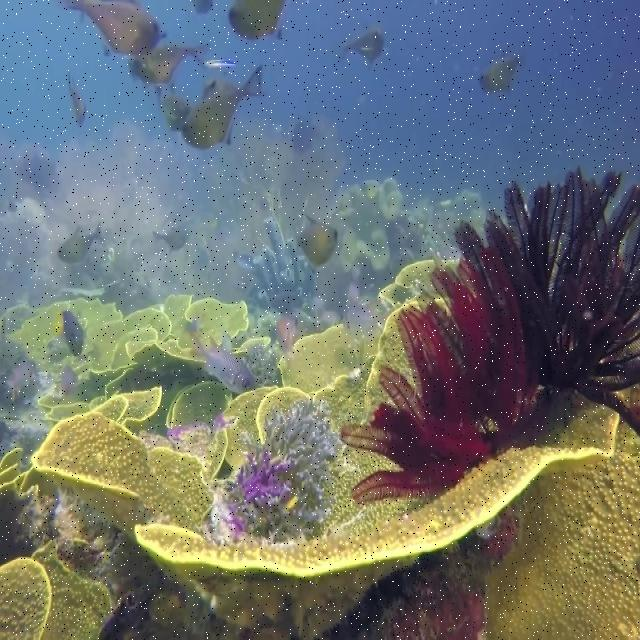aquatic plants: (341, 171, 639, 502)
fish: (182, 64, 267, 149), (66, 1, 171, 58), (184, 322, 258, 394), (128, 43, 210, 104), (295, 210, 337, 270), (229, 1, 288, 40), (480, 44, 522, 95), (58, 223, 104, 266), (342, 30, 385, 69), (54, 307, 85, 358), (67, 69, 87, 127), (153, 225, 190, 252)
reefs: (0, 258, 639, 639)
